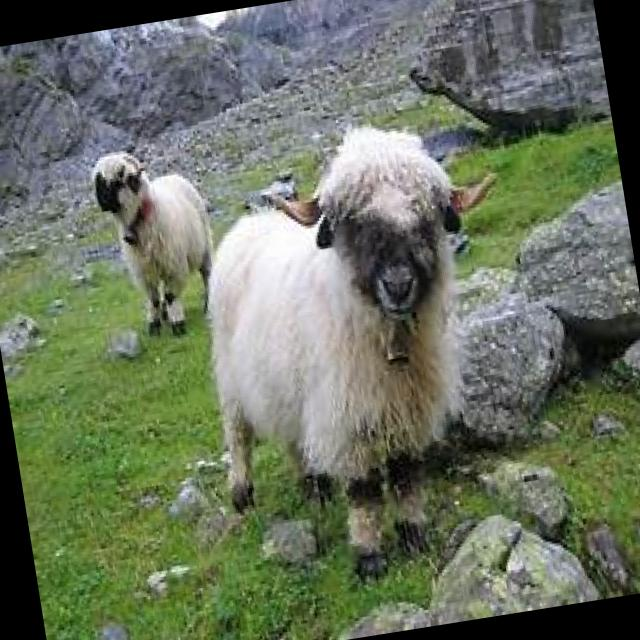animal: (175, 102, 560, 601), (88, 136, 230, 344)
